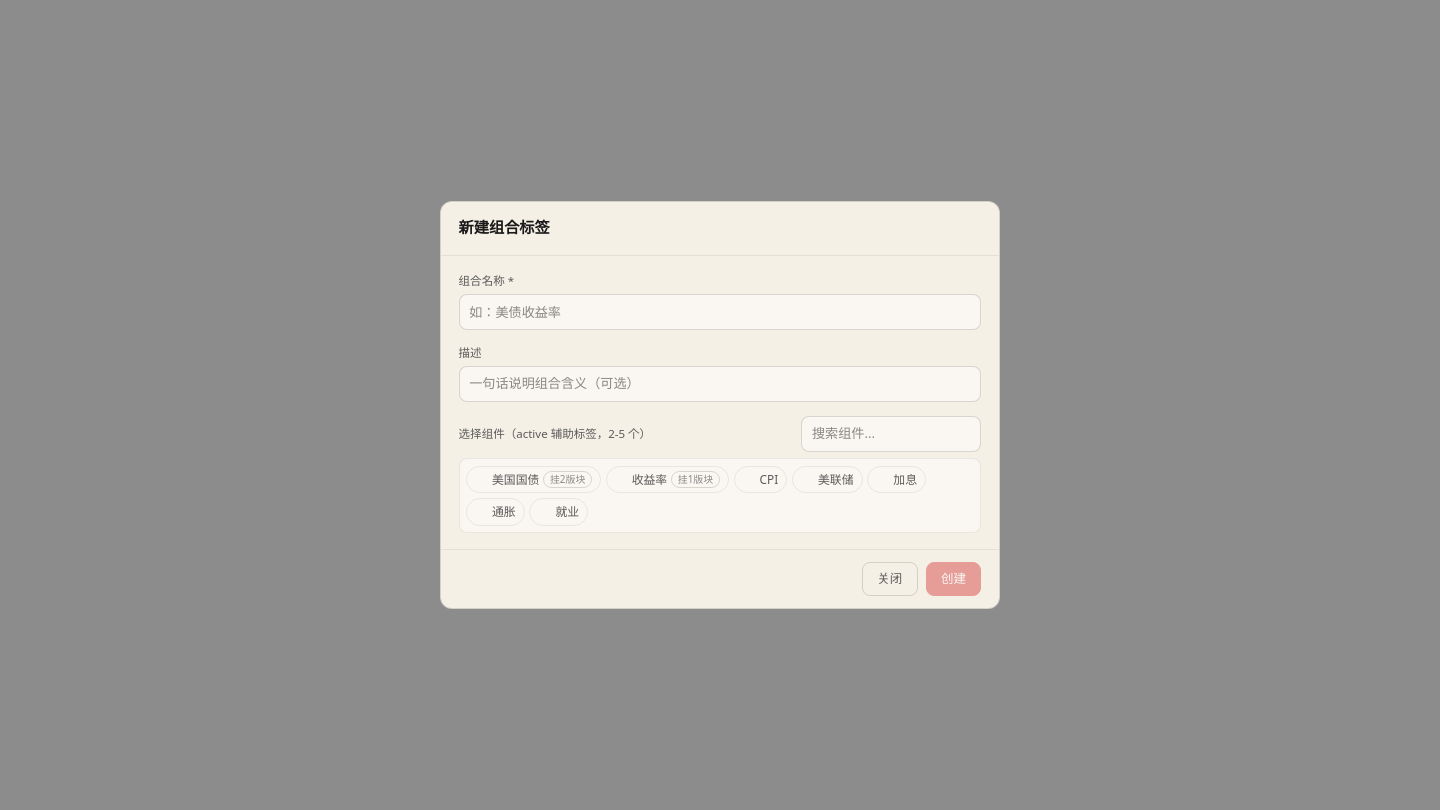
Test: CompositeLabelEditDialog — 组件推荐交互（S12，design D7） › 选中组件后展示相关现有组合，集合一致时预告复用（主链路步3）
The width and height of the screenshot is (1440, 810).
只选「美国国债」→ 相关组合含「美债收益率」
Click the button with class "cld-picker-item" showing "美国国债 挂2版块" at point(533, 480), box [466,466,601,493]
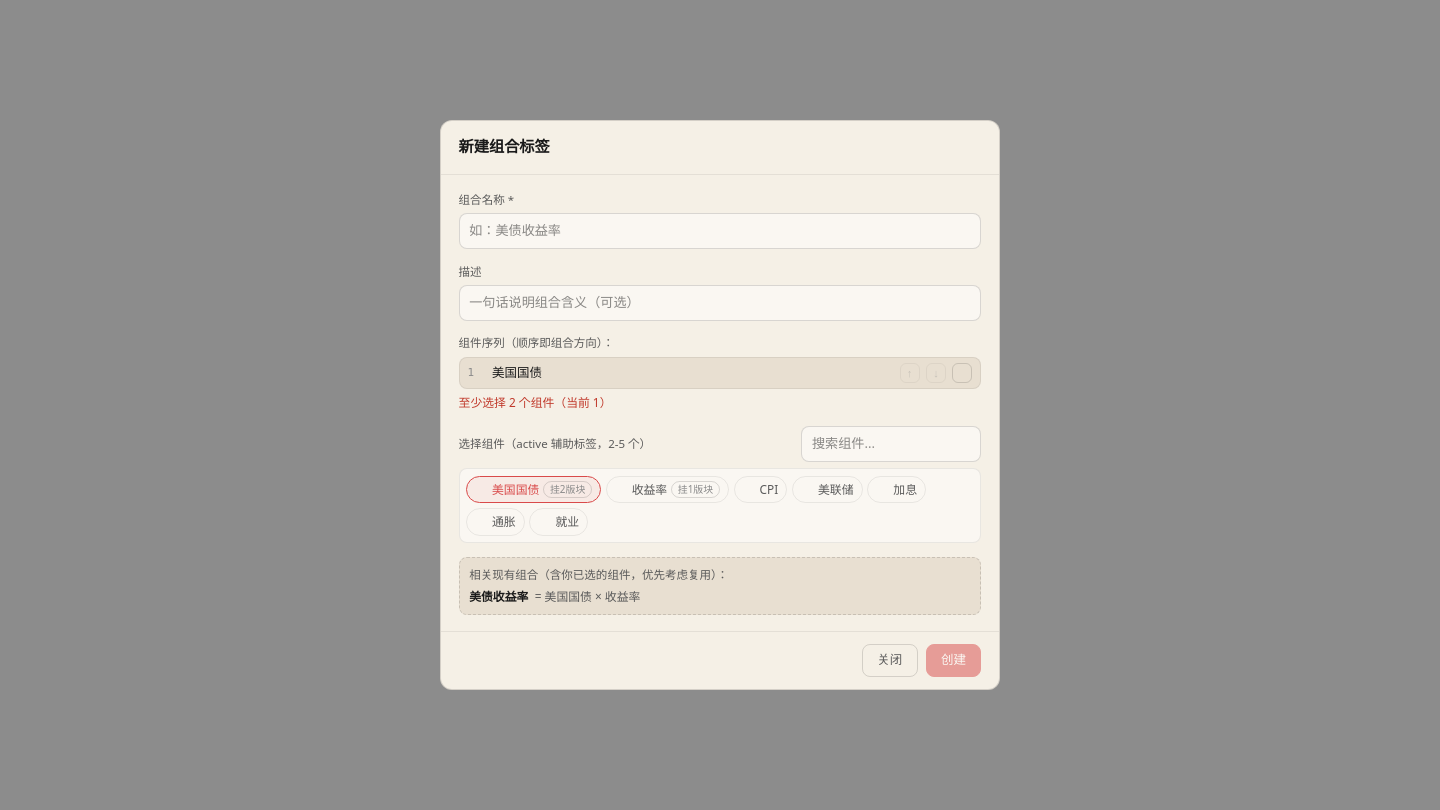
expect the element with test id "composite-label-related" is shown: met, box [459,557,981,615]
expect the element with test id "composite-label-related" shows "美债收益率": met, box [469,588,528,604]
再选「收益率」→ 集合与「美债收益率」完全一致 → 复用预告
Click the button with class "cld-picker-item" showing "收益率 挂1版块" at point(667, 490), box [606,476,729,503]
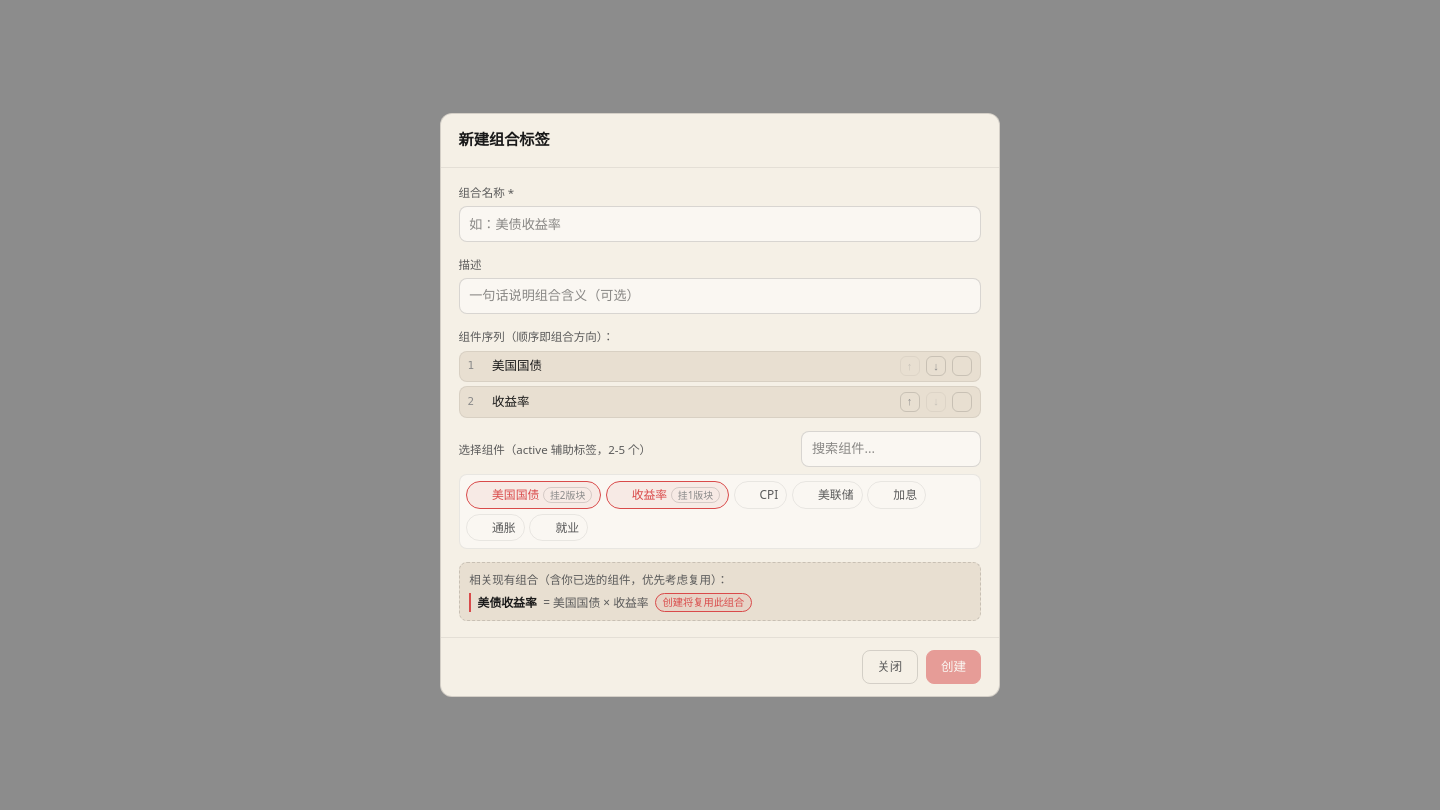
expect the element with test id "composite-label-related" is shown: met, box [459,562,981,621]
expect the text "创建将复用此组合" is shown: met, box [655,594,752,612]
expect the text with test id "composite-label-reuse-hint" reads "创建将复用此组合": met, box [662,595,744,609]
